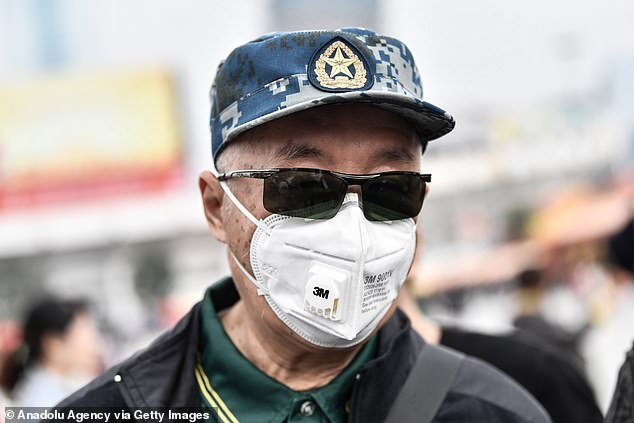n95: (237, 189, 420, 347)
